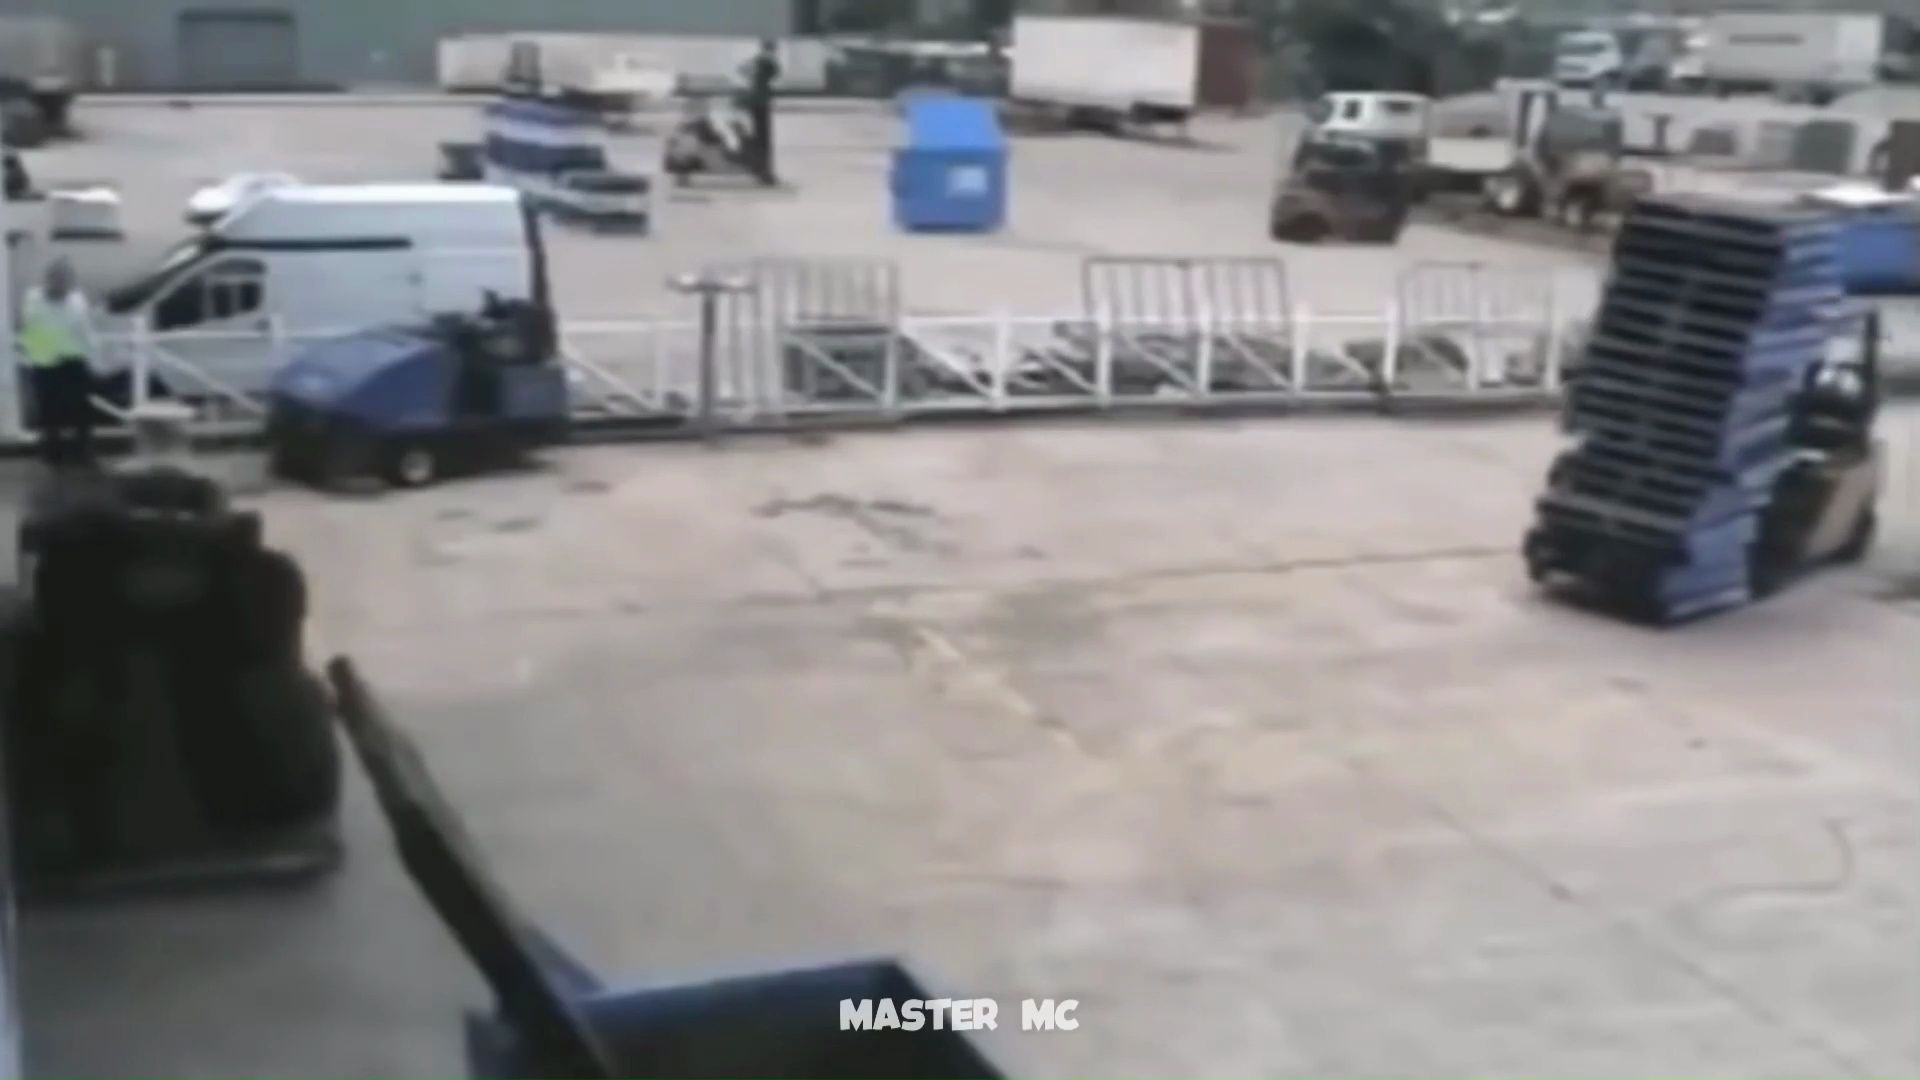forklift: (1523, 203, 1887, 632), (4, 462, 357, 894)
